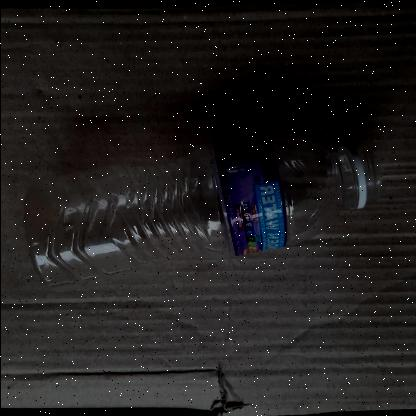Plastic Bottle: (26, 135, 380, 287)
